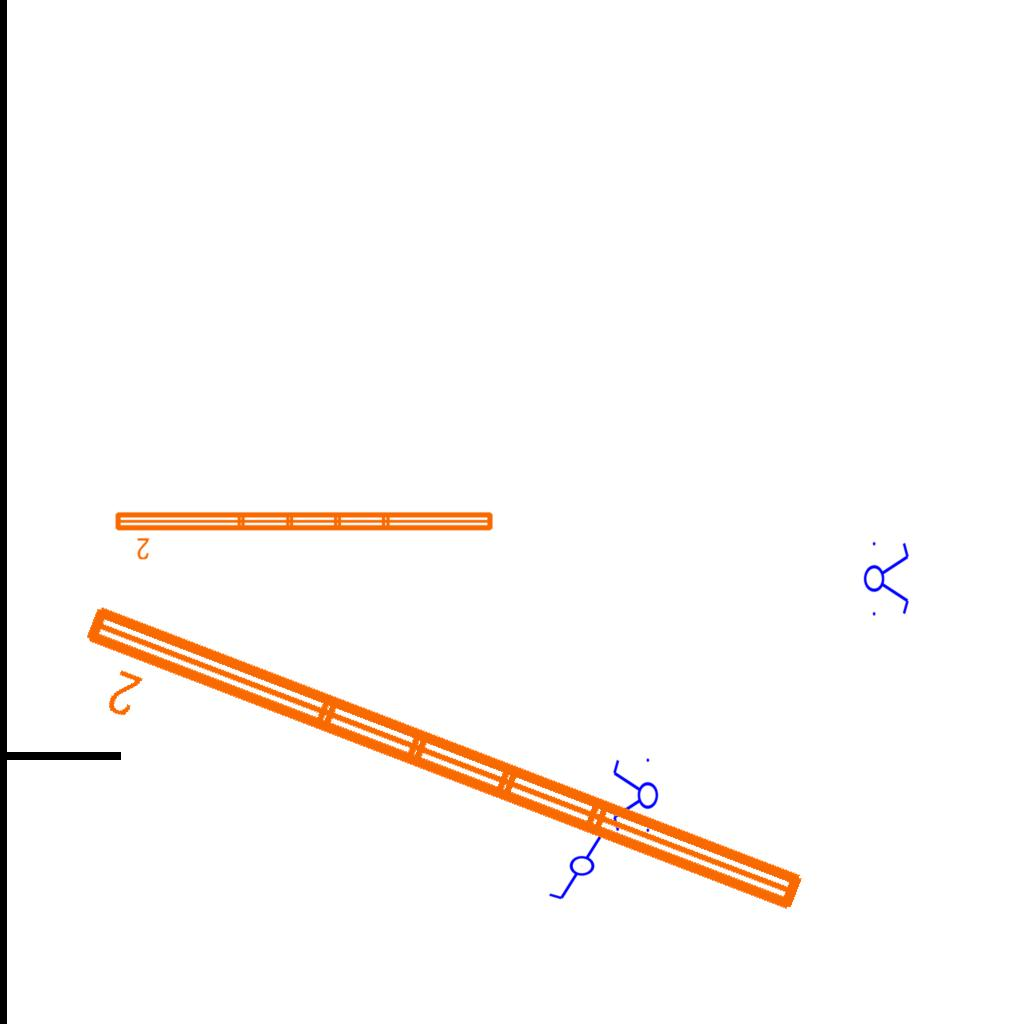Ambulanz_Pendelleuchte_LED: (54, 591, 818, 973), (111, 506, 498, 562)
Serienschalter: (611, 754, 659, 838), (863, 536, 911, 620)
Wechselschalter: (547, 831, 625, 903)
